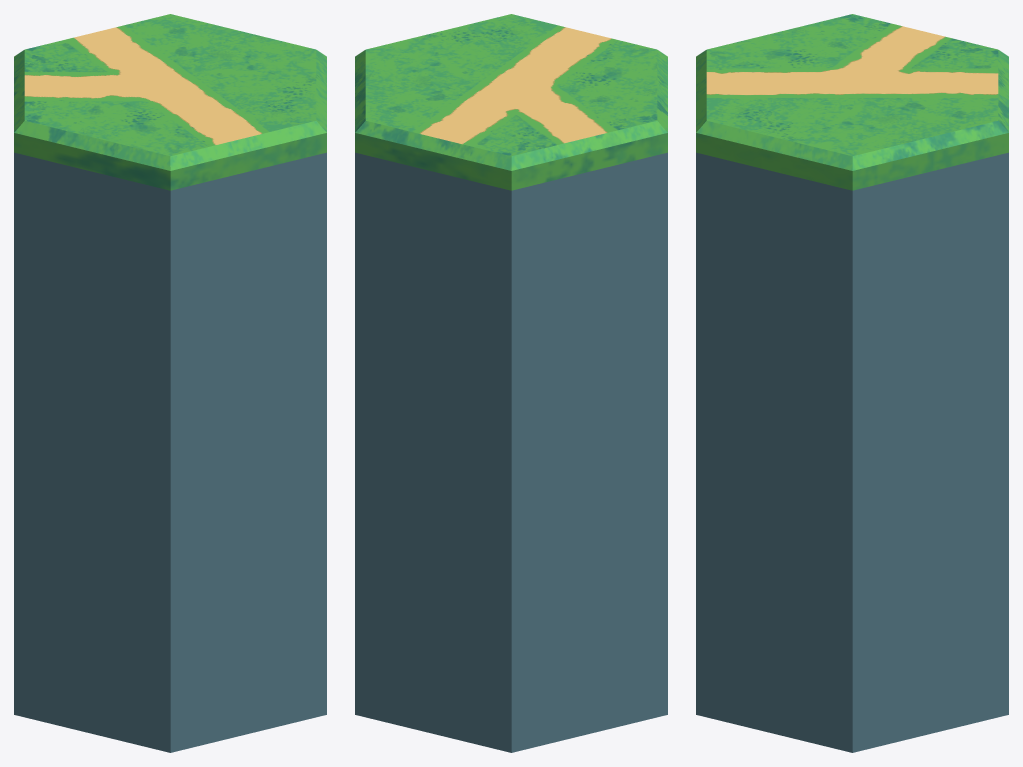
Rendered from TerrainForkLeft.fbx.
3 views of the same model, side by side, from view 1: azimuth 30°, elevation 25°; view 2: azimuth 150°, elevation 25°; view 3: azimuth 270°, elevation 25° (orthographic).
Visible parts, largest first — view 1: TerrainForkLeft_LOD0; view 2: TerrainForkLeft_LOD0; view 3: TerrainForkLeft_LOD0.
Boxes of the visible parts, bbox=[...] form: TerrainForkLeft_LOD0: bbox=[14, 14, 326, 752]; TerrainForkLeft_LOD0: bbox=[355, 14, 667, 752]; TerrainForkLeft_LOD0: bbox=[696, 14, 1008, 752].
Size of what is drawn, in the model's own units: 500 by 904 by 433.
